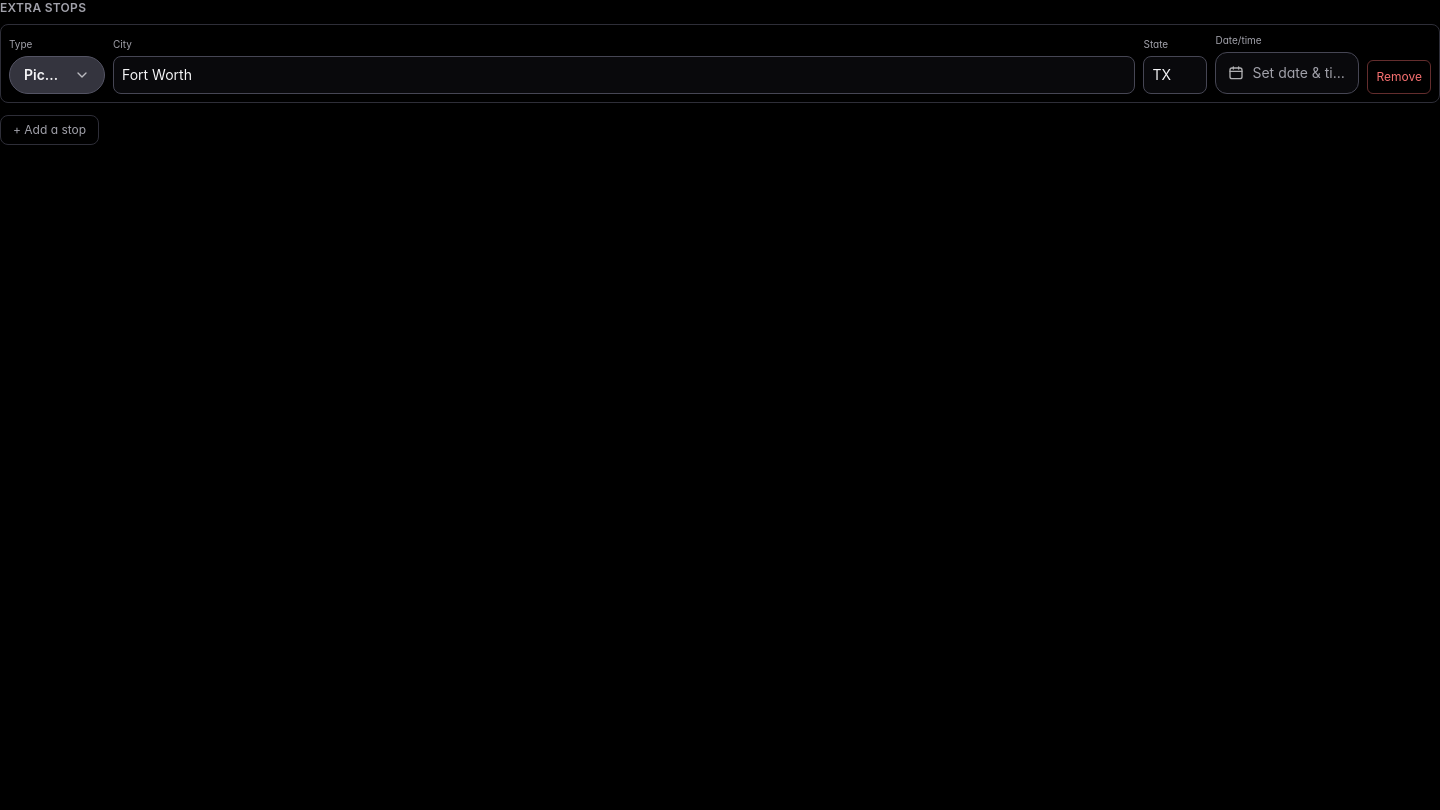
ExtraStopsEditor › picking a date/time via the popover updates only that row's datetime
Click the button with aria-label "stop 1 date/time" at (1288, 73), box left=1216, top=52, right=1360, bottom=94
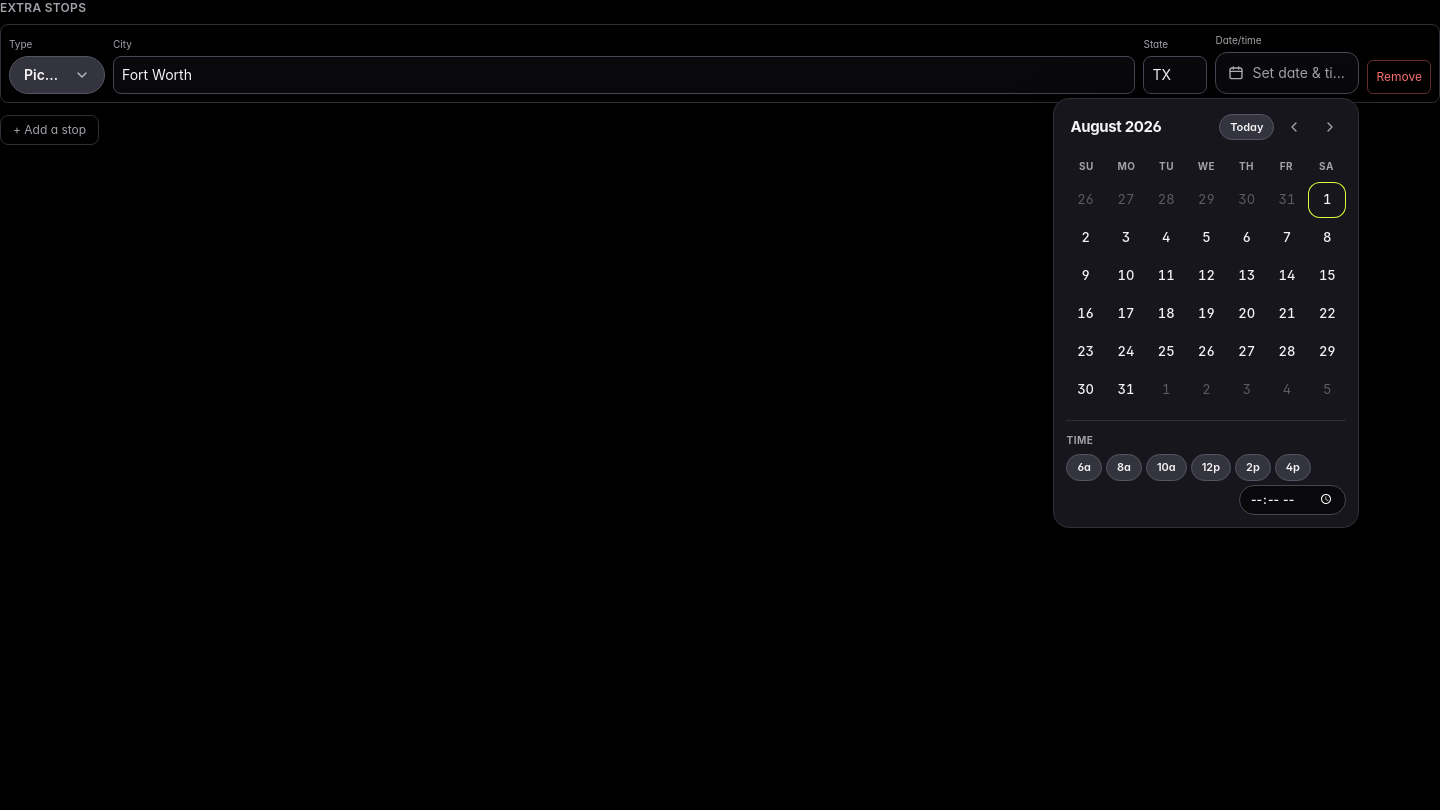
Click the button named "2026-08-14" at (1287, 276), box left=1268, top=258, right=1306, bottom=294
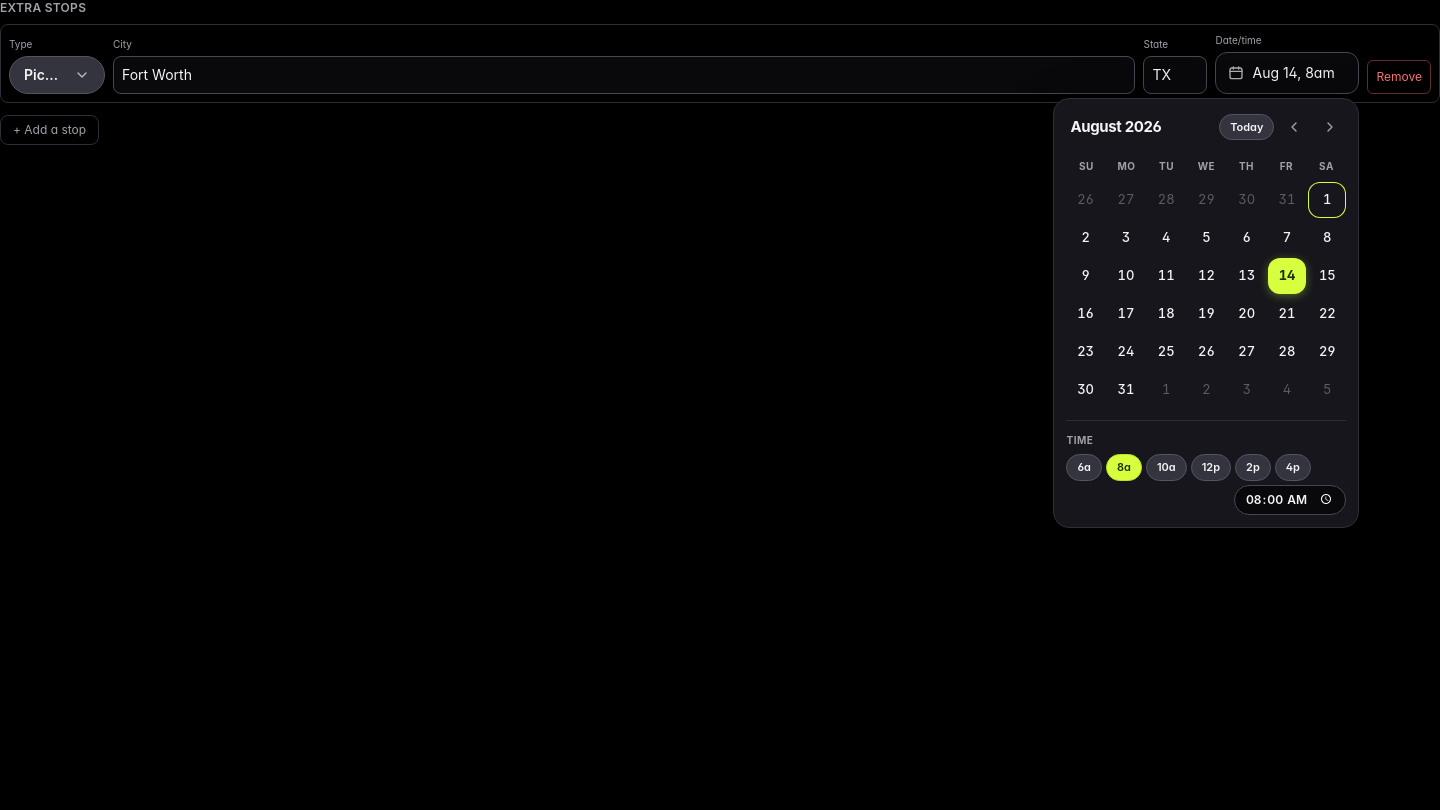
Click the button named "set time to 10:00 am" at (1166, 467), box left=1146, top=454, right=1187, bottom=480
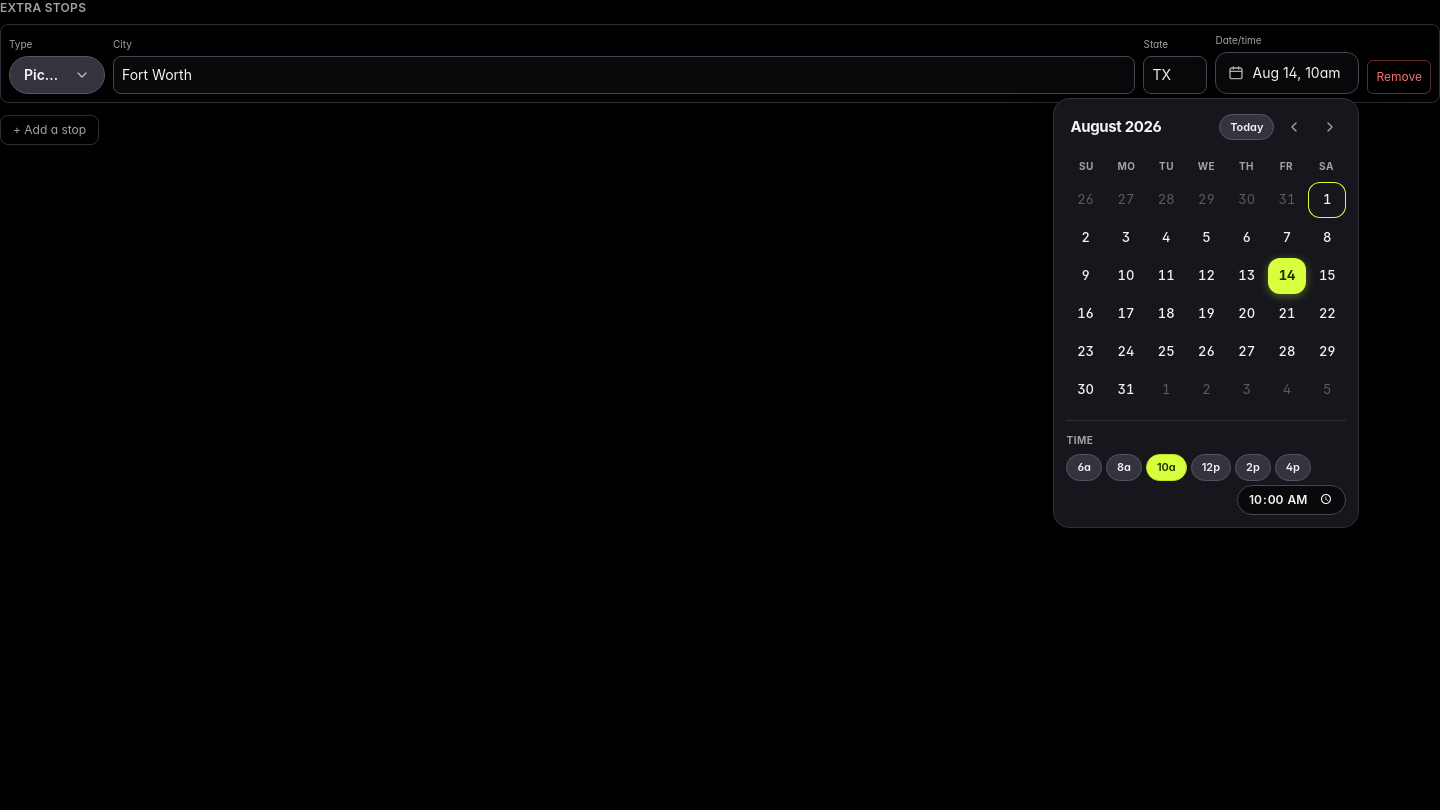
Result: the button with aria-label "stop 1 date/time" reads "Aug 14, 10am" at left=1216, top=52, right=1360, bottom=94
